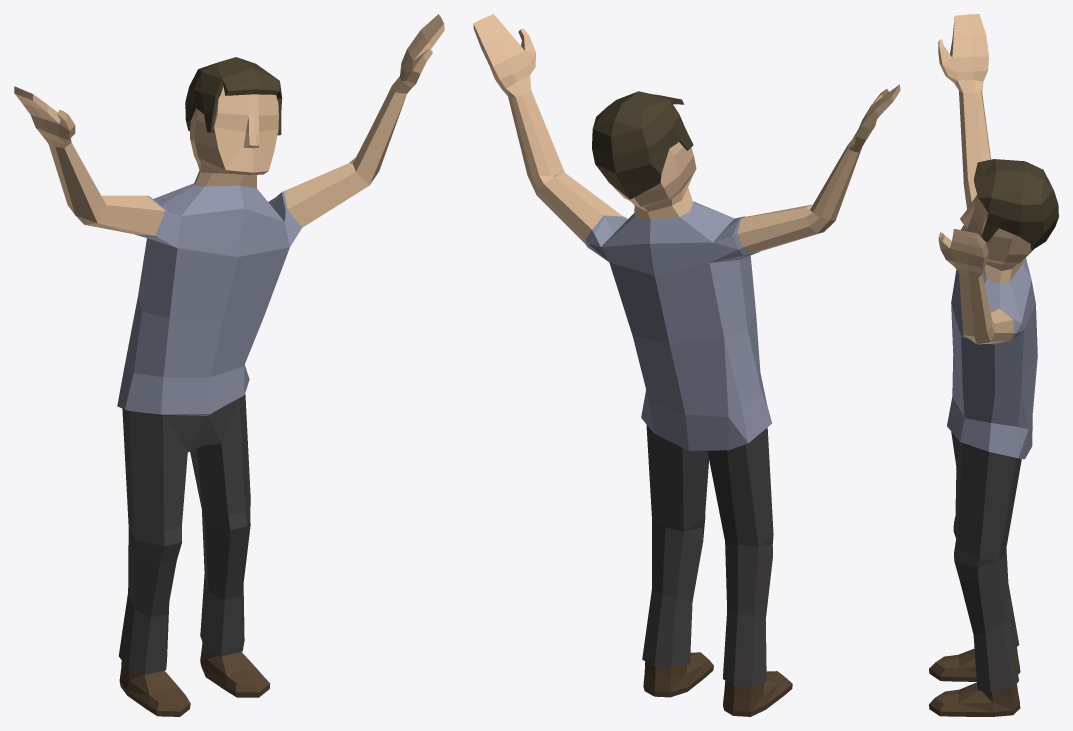
Rendered from Male_Crowd_Swaying.glb.
3 views of the same model, side by side, from view 1: azimuth 30°, elevation 25°; view 2: azimuth 150°, elevation 25°; view 3: azimuth 270°, elevation 25° (orthographic). The views are drawn at different scales.
Parts seen in each view (by area): view 1: Male_Crowd_Swaying; view 2: Male_Crowd_Swaying; view 3: Male_Crowd_Swaying.
Part boxes in pixels (box(x1,y1,x2,y2)): Male_Crowd_Swaying: box(14, 14, 444, 716); Male_Crowd_Swaying: box(473, 14, 900, 716); Male_Crowd_Swaying: box(929, 14, 1058, 716).
Size of the model in its own units: 1.31 by 1.91 by 0.3767.
